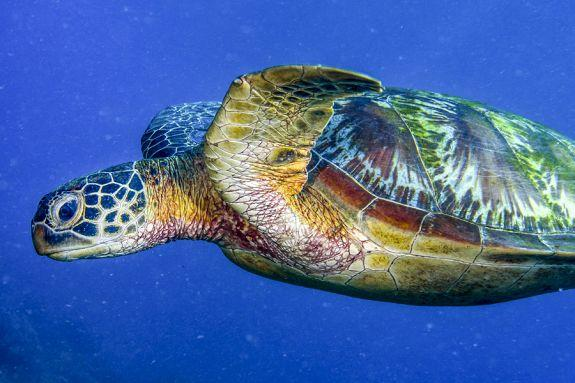turtle: (27, 161, 161, 266)
